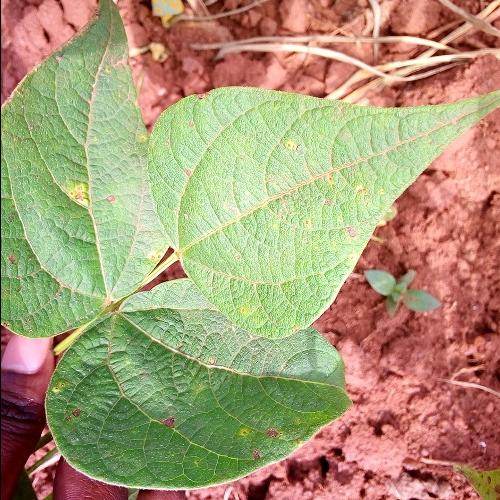hawar: (121, 71, 317, 286), (210, 390, 306, 479), (50, 144, 116, 220)
